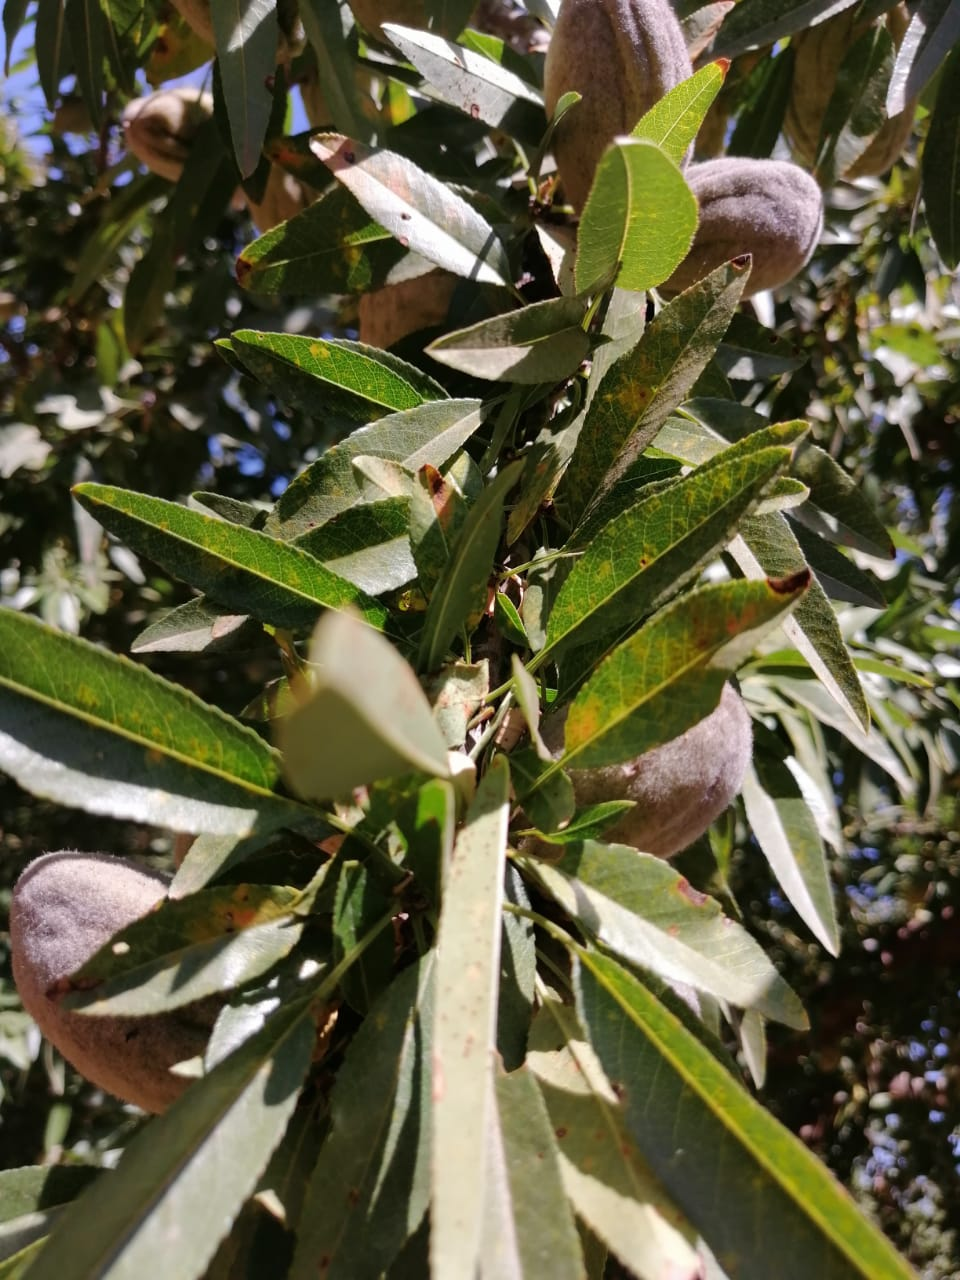rouille: (563, 252, 755, 535), (518, 998, 710, 1280), (421, 750, 513, 1280), (302, 126, 514, 288), (379, 17, 555, 141)
